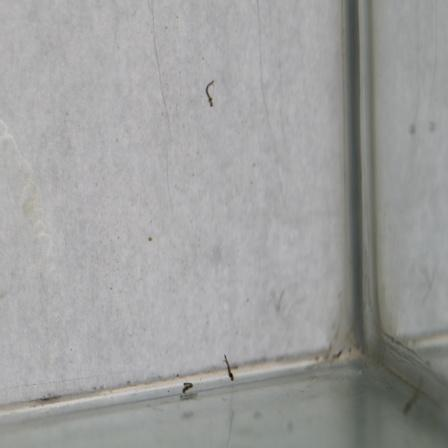Jentik-Nyamuk: (218, 351, 239, 385), (203, 77, 219, 108), (176, 378, 196, 399)
